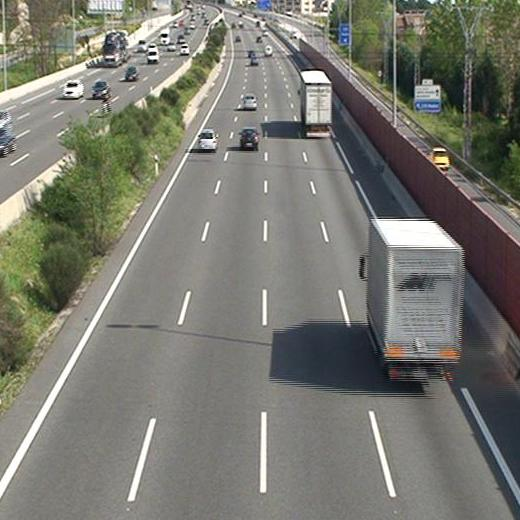car: (240, 127, 259, 148), (198, 128, 216, 149), (243, 93, 257, 110), (250, 56, 259, 66)
small-truck: (365, 220, 463, 379)
truck: (299, 72, 331, 137)
van: (263, 45, 272, 56)
